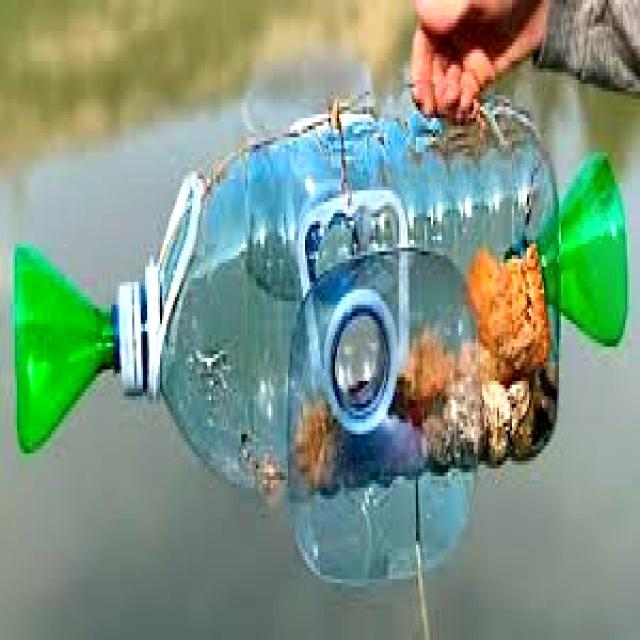Plastic: (110, 83, 563, 517)
